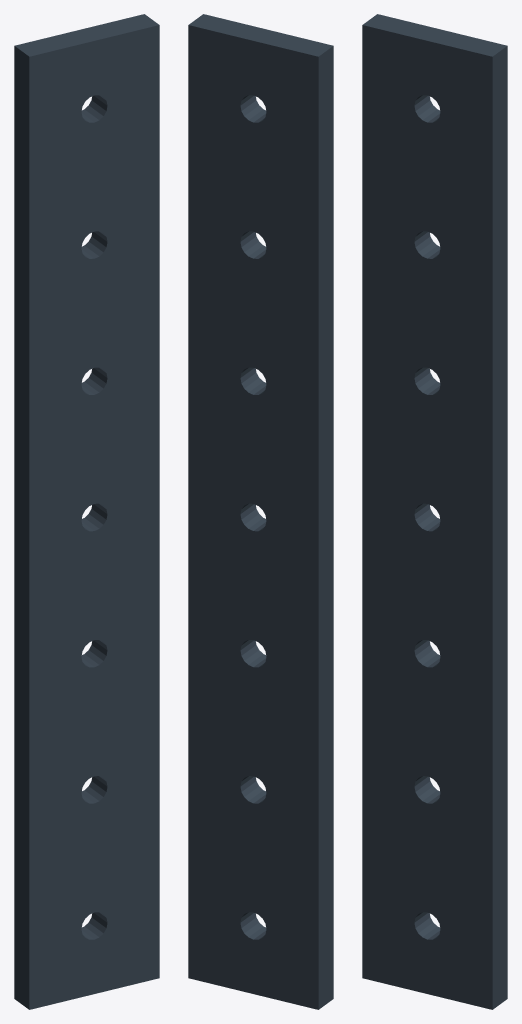
The model's file is kit_beam_140.obj.
The picture shows the model from 3 angles, left to right: view 1: azimuth 30°, elevation 25°; view 2: azimuth 150°, elevation 25°; view 3: azimuth 330°, elevation 25°; orthographic projection.
Visible parts, largest first — view 1: kit_beam_140; view 2: kit_beam_140; view 3: kit_beam_140.
Part boxes in pixels (x1,y1,x2,y2): kit_beam_140: (14,14,159,1009); kit_beam_140: (188,14,333,1009); kit_beam_140: (362,14,507,1009).
Bounding box in the file's own units: 0.02 × 0.14 × 0.004.
